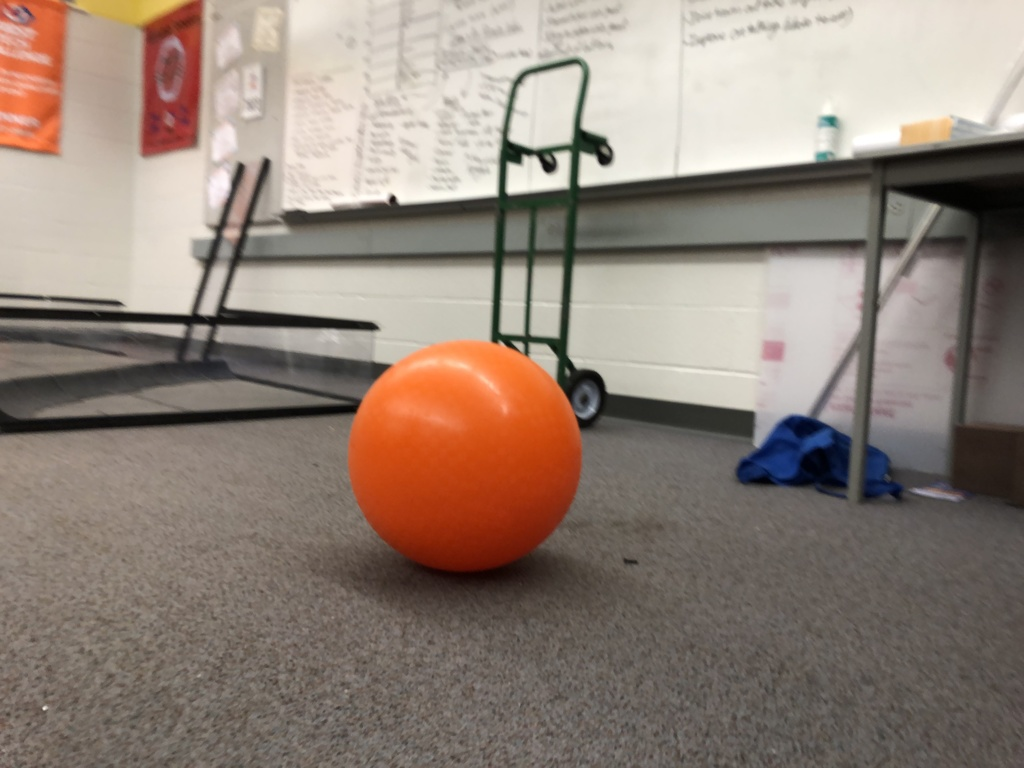cargo: (343, 328, 595, 597)
